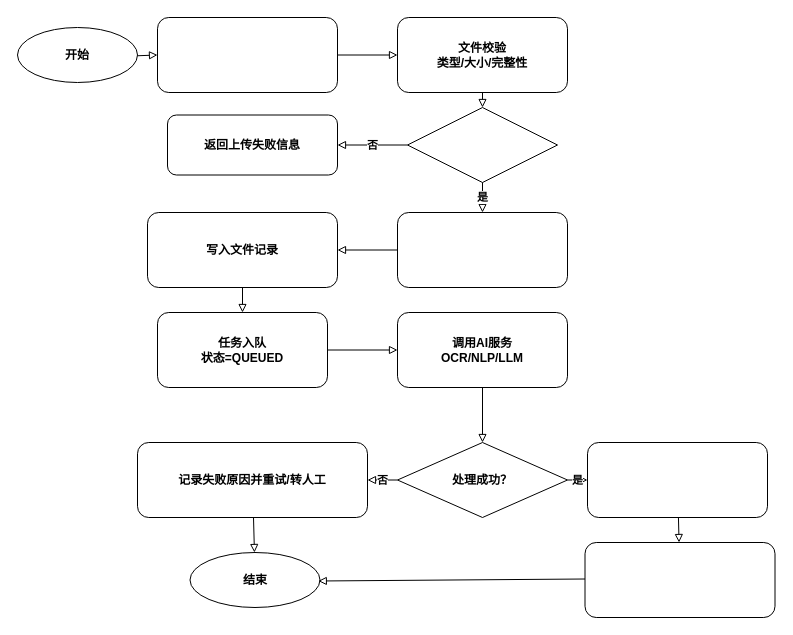
Image size: 793x635. Some labels were removed from this diagram. Here are the shapes that lost their labels. From the top down, the box of each, then its label:
(156, 16, 338, 92): 用户上传文档 图片 / PDF
(406, 106, 558, 182): 校验通过？
(396, 212, 568, 288): 存储原始文件 MinIO
(586, 442, 768, 518): 写入抽取结果 主表 + 明细表
(584, 542, 775, 618): 更新文档状态 待人工校对
